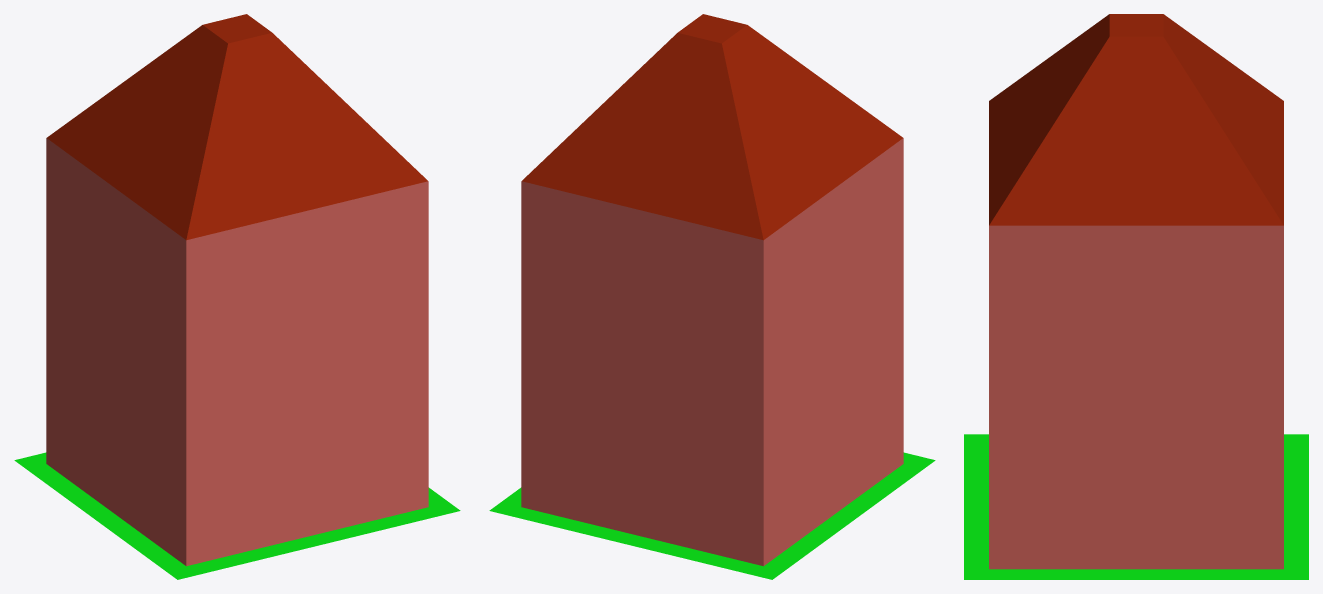
File: easy_house.fbx
3 views of the same model, side by side, from view 1: azimuth 30°, elevation 25°; view 2: azimuth 150°, elevation 25°; view 3: azimuth 270°, elevation 25° (orthographic). The views are drawn at different scales.
Visible parts, largest first — view 1: Cube, Plane; view 2: Cube, Plane; view 3: Cube, Plane.
Boxes of the visible parts, x1,y1,x2,y2 form: Cube: (46,14,428,566); Plane: (14,452,460,579); Cube: (521,14,903,566); Plane: (489,452,935,579); Cube: (989,14,1283,569); Plane: (964,434,1308,579).
Size of the model in its own units: 1000 by 1541 by 1000.
